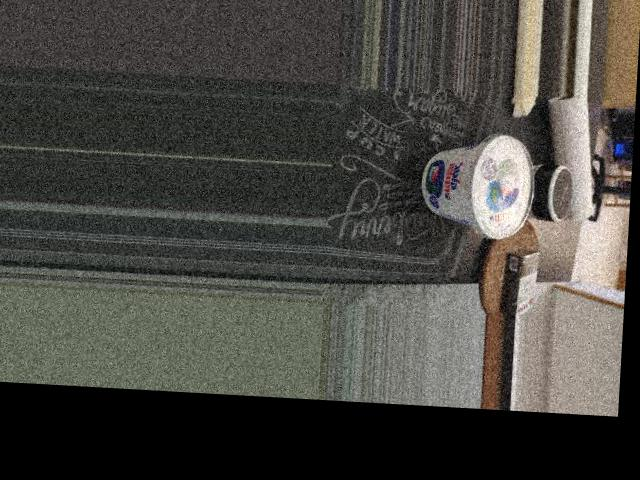cotage: (412, 130, 539, 236)
